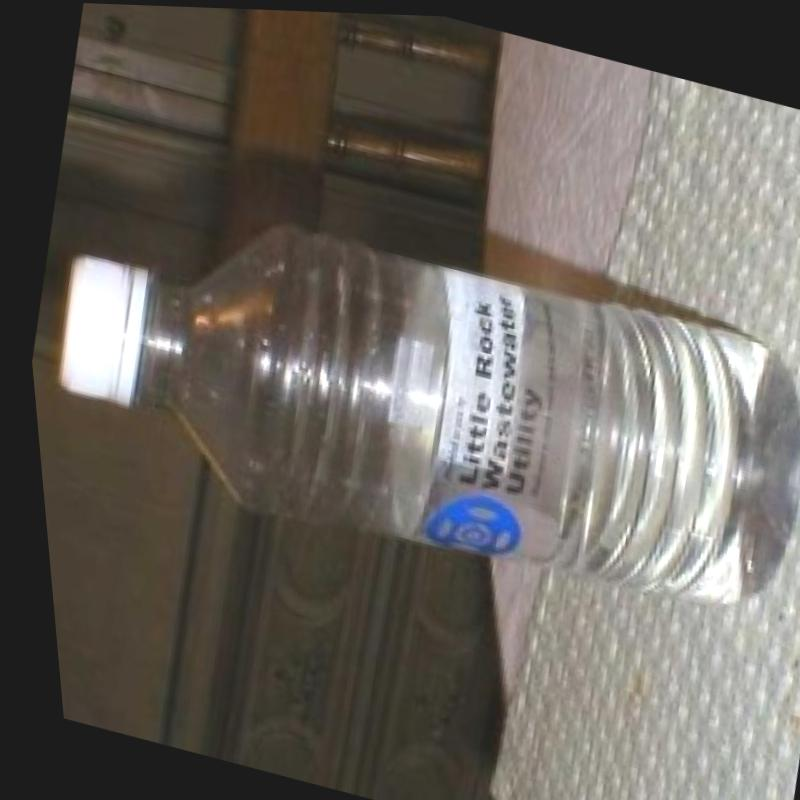botella: (16, 161, 800, 643)
